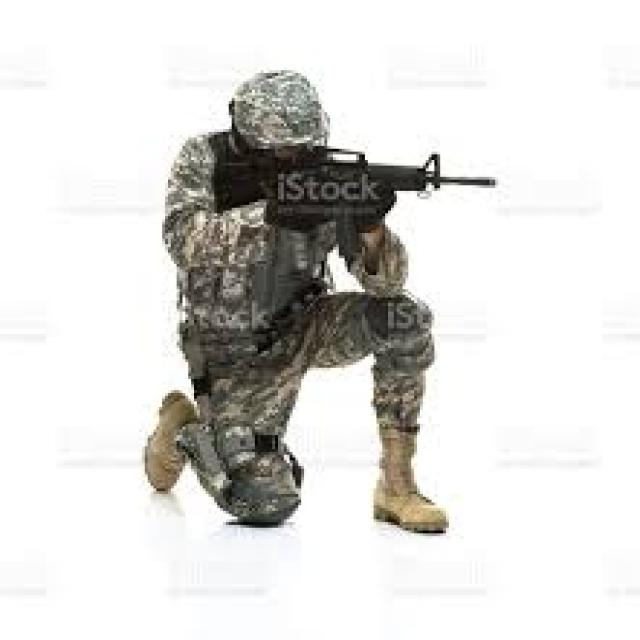soldier: (140, 49, 487, 565)
